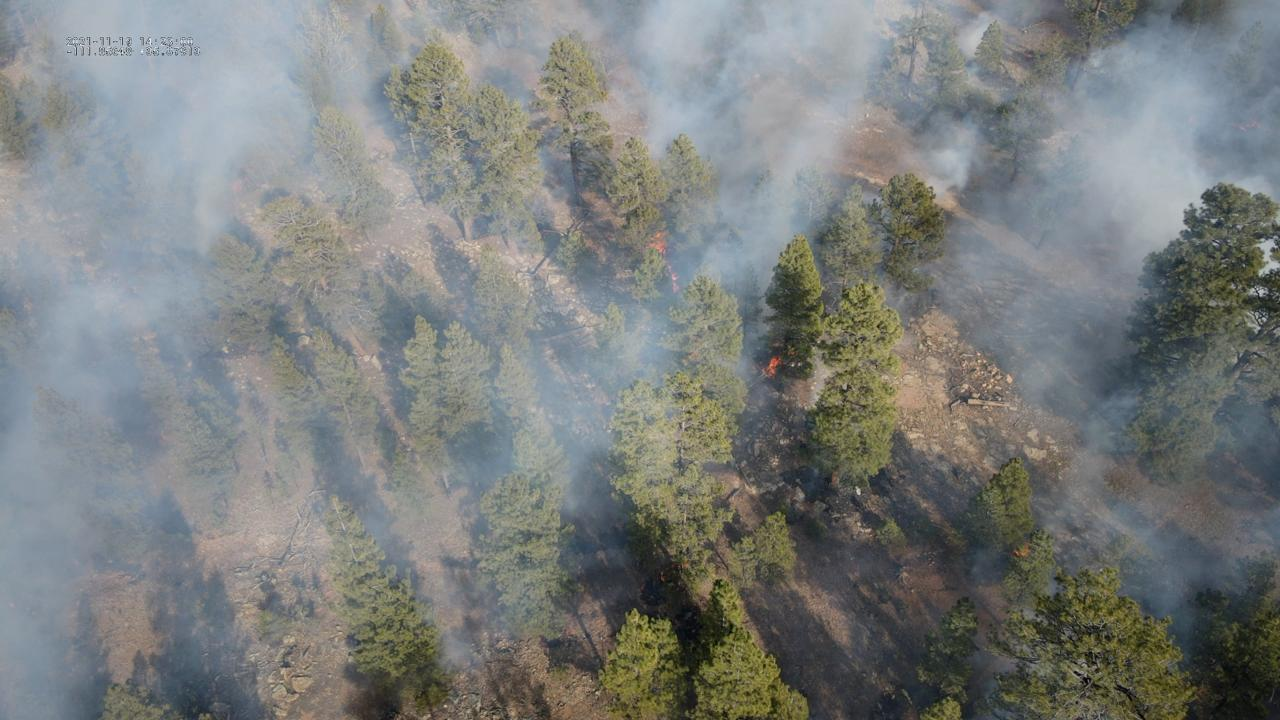fire: (646, 231, 680, 296), (758, 354, 783, 379), (1232, 118, 1264, 134), (1012, 543, 1031, 559), (229, 180, 244, 193), (670, 563, 689, 569), (659, 571, 666, 585), (786, 350, 796, 357)
smoke: (0, 0, 1280, 720)
